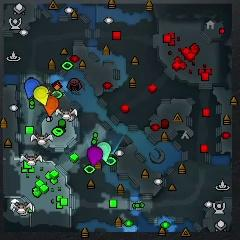p1: (25, 77, 40, 99)
p2: (98, 141, 111, 162)
p3: (88, 145, 103, 166)
p4: (33, 84, 49, 106)
p5: (45, 95, 59, 117)
